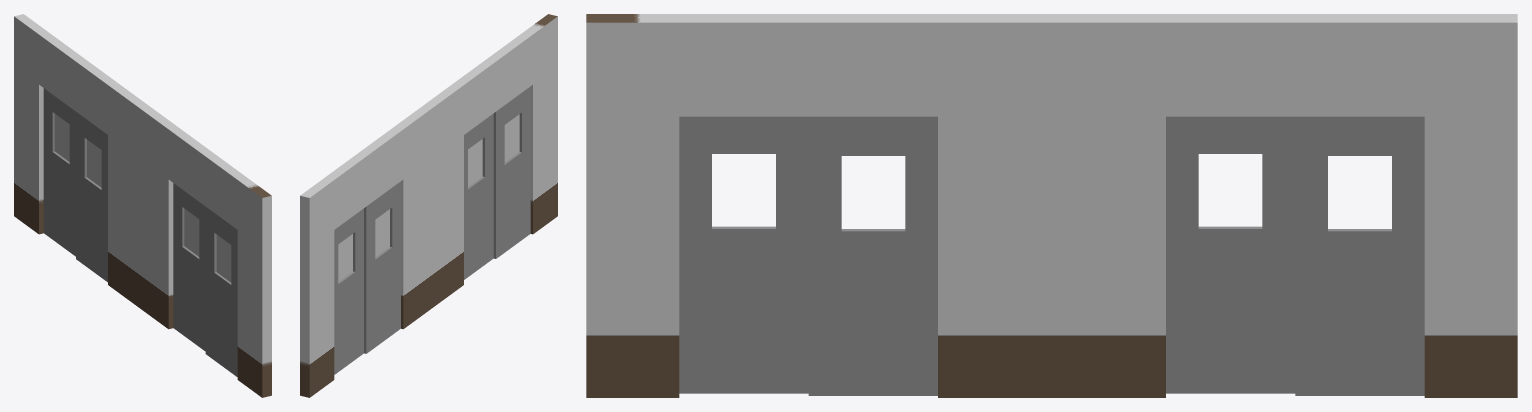
Rendered from classroom_rightwall.glb.
3 views of the same model, side by side, from view 1: azimuth 30°, elevation 25°; view 2: azimuth 150°, elevation 25°; view 3: azimuth 270°, elevation 25° (orthographic). The views are drawn at different scales.
Parts seen in each view (by area): view 1: DoaKabe; view 2: DoaKabe; view 3: DoaKabe.
Part boxes in pixels (x1,y1,x2,y2): DoaKabe: (14,14,271,397); DoaKabe: (300,14,557,397); DoaKabe: (586,14,1517,397).
Size of the model in its own units: 20 by 400 by 900.
1 material, 1 textured.
